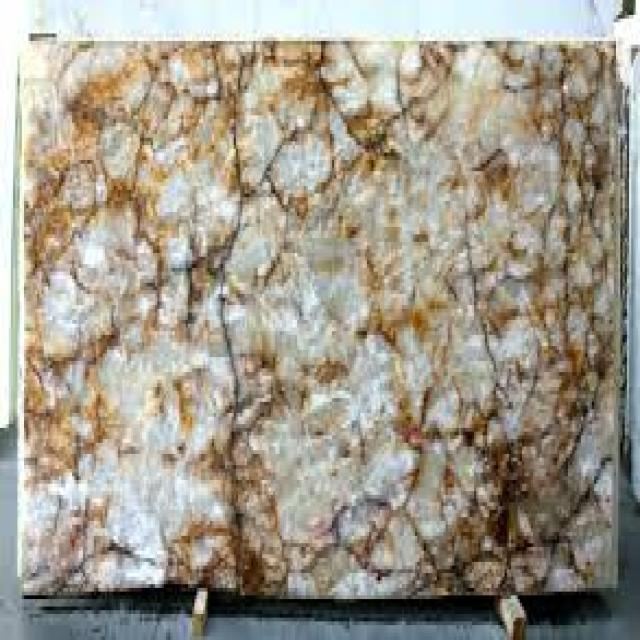Metamorphic: (24, 41, 616, 595)
